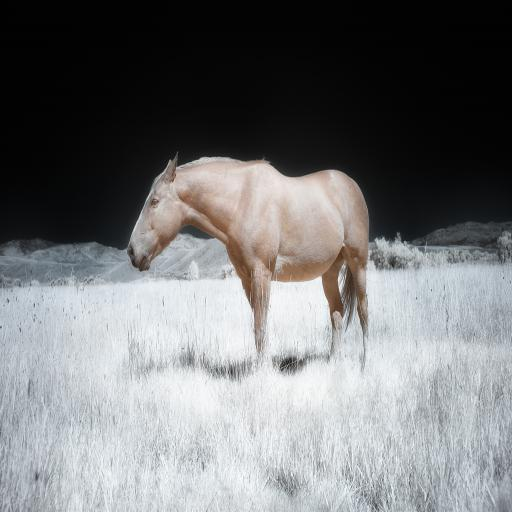Horse: (128, 151, 368, 372)
